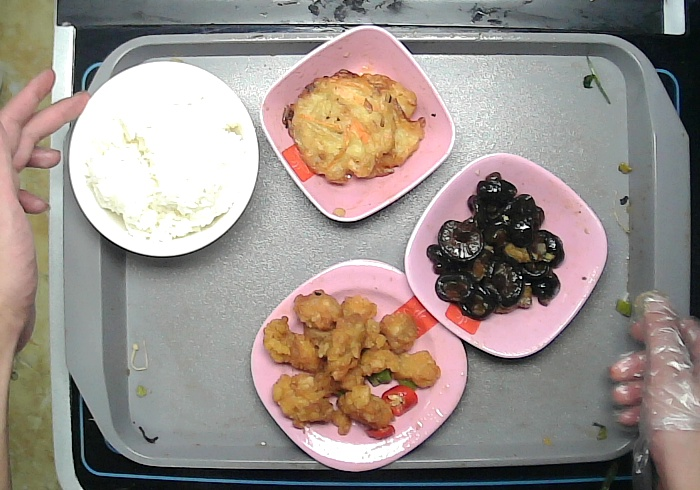SHKJ-Fan_Wan: (67, 59, 262, 258)
SHKJ-Fen_Se_Cai_Die: (404, 151, 610, 359)
SHKJ-Fen_Se_Si_Fang_Cai_Die: (248, 258, 470, 473)
SHKJ-Fen_Se_Xiao_Fang_Die: (258, 25, 458, 224)
